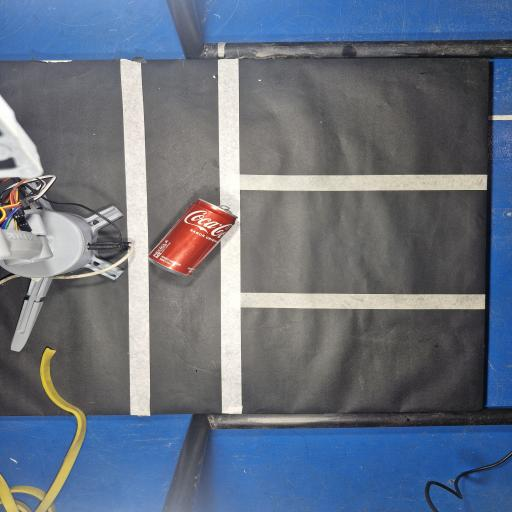lata: (149, 199, 237, 275)
